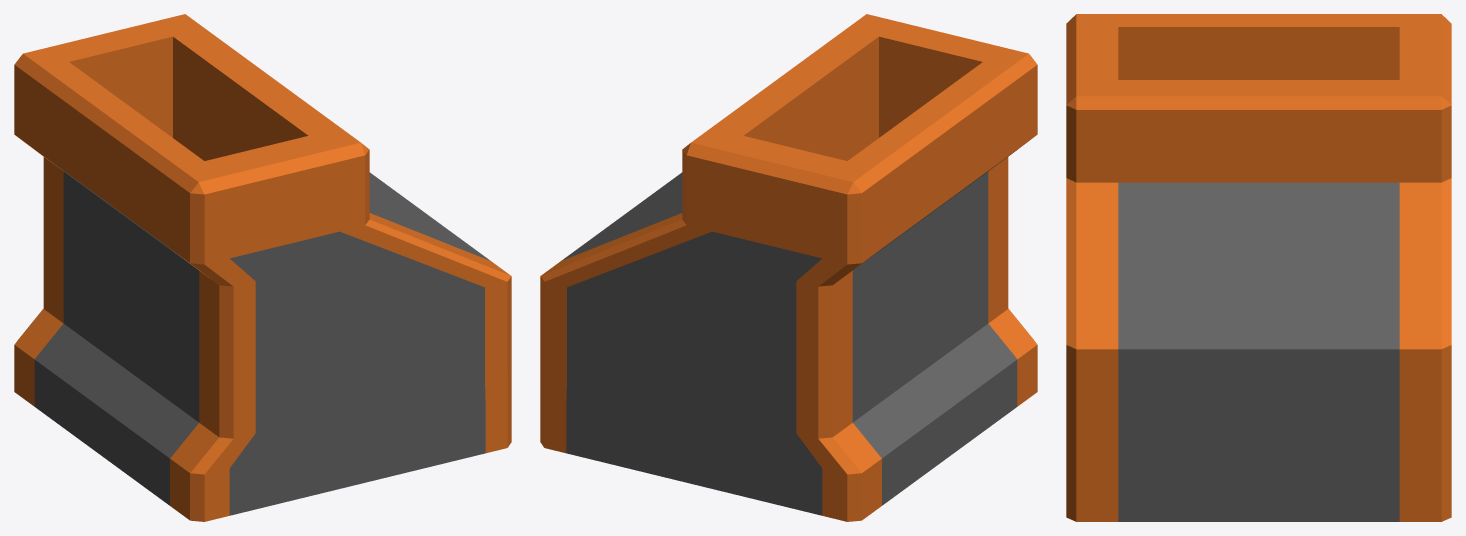
The model's file is crasher.glb.
3 views of the same model, side by side, from view 1: azimuth 30°, elevation 25°; view 2: azimuth 150°, elevation 25°; view 3: azimuth 270°, elevation 25° (orthographic). The views are drawn at different scales.
Visible parts, largest first — view 1: crasher; view 2: crasher; view 3: crasher.
Part boxes in pixels (x1,y1,x2,y2): crasher: (14,14,511,521); crasher: (540,14,1037,521); crasher: (1066,14,1451,521).
Bounding box in the file's own units: 1 × 1 × 1.
